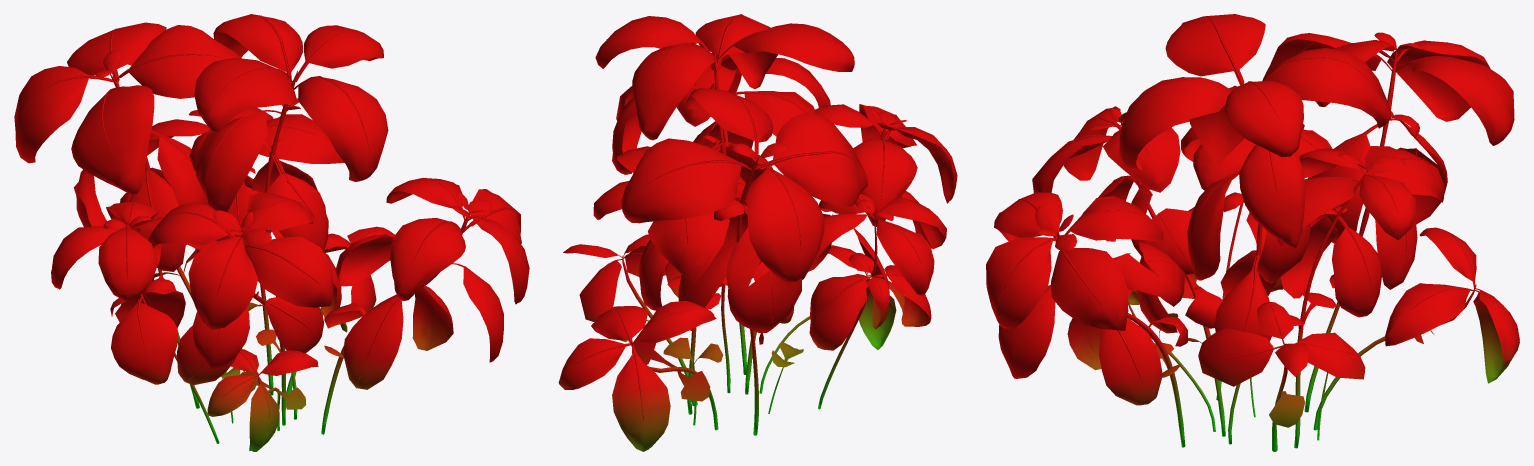
File: Basil_LOD1_Var1_vgpochzia.fbx
The picture shows the model from 3 angles, left to right: view 1: azimuth 30°, elevation 25°; view 2: azimuth 150°, elevation 25°; view 3: azimuth 270°, elevation 25°; orthographic projection. The views are drawn at different scales.
Visible parts, largest first — view 1: _ryr9_Var1_LOD1; view 2: _ryr9_Var1_LOD1; view 3: _ryr9_Var1_LOD1.
Boxes of the visible parts, left/top/right/bottom form: _ryr9_Var1_LOD1: left=14, top=14, right=529, bottom=451; _ryr9_Var1_LOD1: left=558, top=14, right=957, bottom=451; _ryr9_Var1_LOD1: left=986, top=14, right=1519, bottom=451.
Size of the model in its own units: 35.22 by 32.14 by 39.54.
